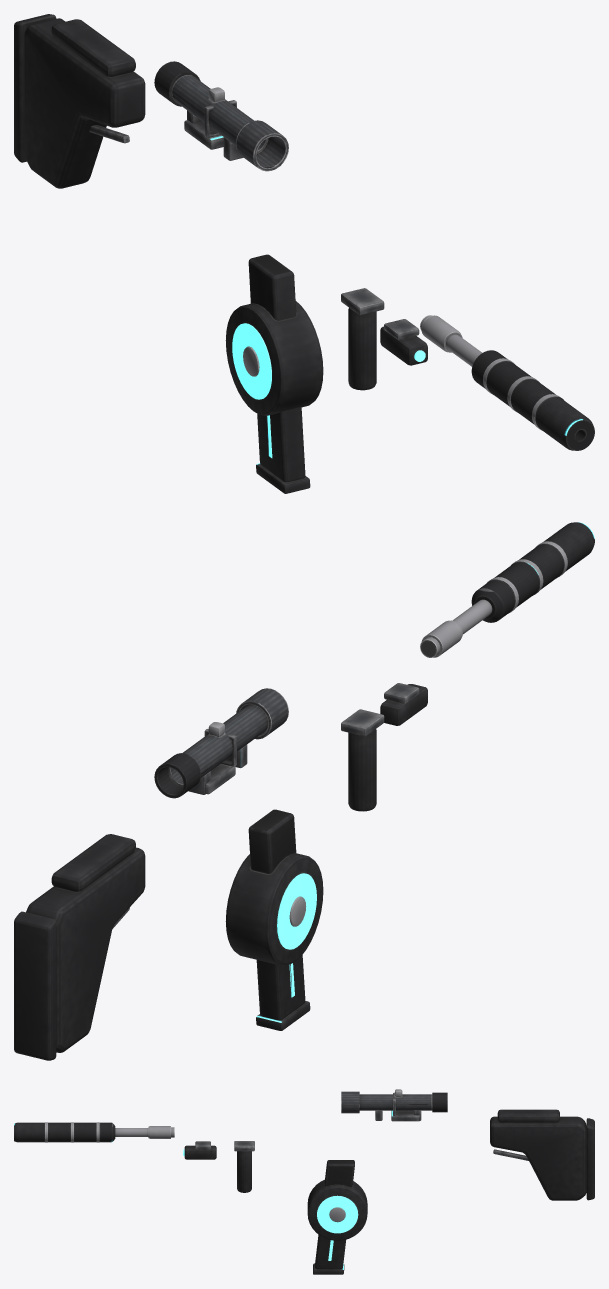
The model's file is proto_ar_attachments.glb.
The picture shows the model from 3 angles, top to bottom: view 1: azimuth 30°, elevation 25°; view 2: azimuth 150°, elevation 25°; view 3: azimuth 270°, elevation 25°; orthographic projection. The views are drawn at different scales.
Visible parts, largest first — view 1: HeavyStock, Drum, CombatScope, ExtendedMagazine, Suppressor, Foregrip, Laser, ReflexSight, ShortBarrel, LongBarrel; view 2: HeavyStock, Drum, CombatScope, Suppressor, ExtendedMagazine, Foregrip, Laser, ShortBarrel, LongBarrel, ReflexSight; view 3: HeavyStock, Drum, CombatScope, Suppressor, ExtendedMagazine, Foregrip, Laser, ReflexSight, ShortBarrel, LongBarrel.
Part boxes in pixels (x1,y1,x2,y2): HeavyStock: [14, 14, 145, 188]; Drum: [225, 254, 323, 415]; CombatScope: [154, 61, 288, 171]; ExtendedMagazine: [249, 254, 310, 493]; Suppressor: [471, 350, 594, 450]; Foregrip: [341, 288, 384, 390]; Laser: [380, 319, 427, 365]; ReflexSight: [184, 100, 236, 149]; ShortBarrel: [420, 315, 462, 352]; LongBarrel: [446, 334, 481, 366]; HeavyStock: [14, 834, 145, 1060]; Drum: [225, 810, 323, 965]; CombatScope: [154, 688, 288, 798]; Suppressor: [471, 522, 594, 622]; ExtendedMagazine: [251, 809, 310, 1030]; Foregrip: [341, 709, 384, 811]; Laser: [380, 683, 427, 725]; ShortBarrel: [420, 620, 462, 657]; LongBarrel: [421, 599, 492, 656]; ReflexSight: [204, 729, 236, 794]; HeavyStock: [490, 1109, 594, 1200]; Drum: [307, 1160, 367, 1240]; CombatScope: [341, 1089, 447, 1120]; Suppressor: [14, 1122, 115, 1142]; ExtendedMagazine: [313, 1160, 353, 1274]; Foregrip: [234, 1141, 254, 1192]; Laser: [183, 1141, 216, 1159]; ReflexSight: [391, 1092, 420, 1121]; ShortBarrel: [148, 1126, 174, 1138]; LongBarrel: [115, 1128, 148, 1136].
Bounding box in the file's own units: 0.058 × 0.387 × 1.12.
1 material, 1 textured.
